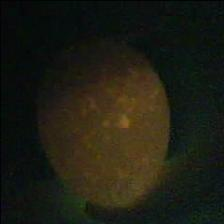fertile: (35, 39, 171, 212)
